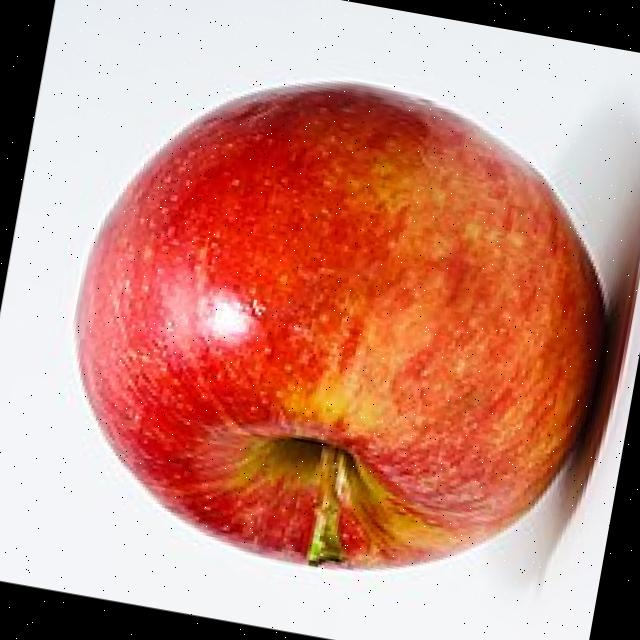apple: (80, 82, 607, 571)
